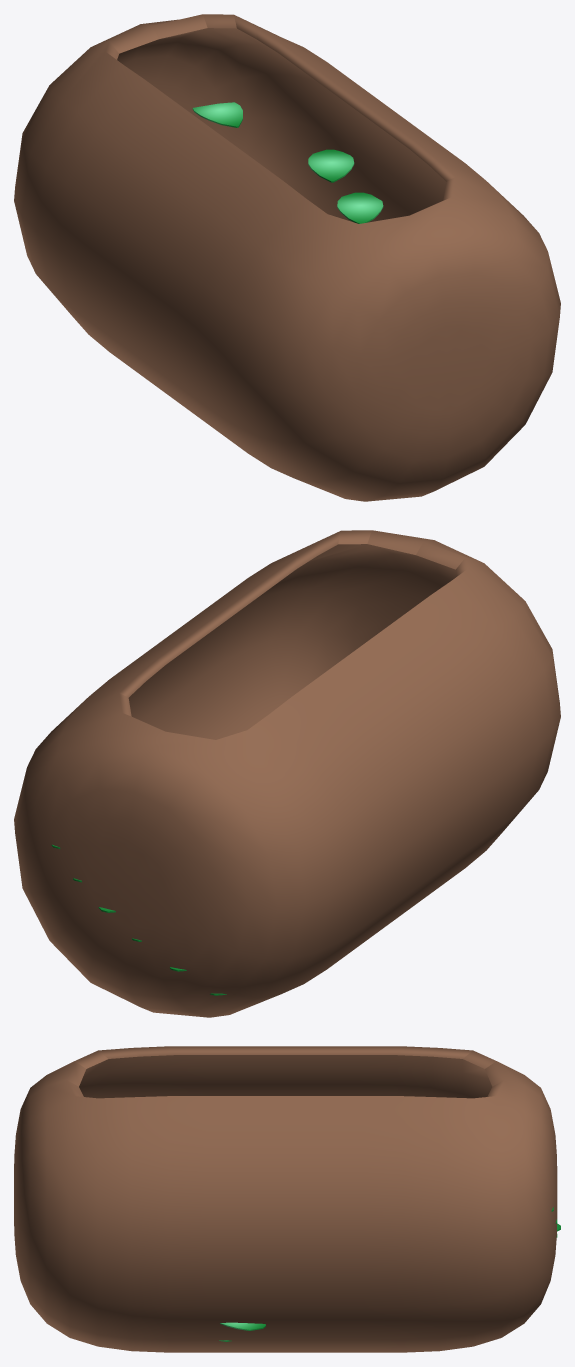
File: TEST_Cylinder_Arena.fbx
The picture shows the model from 3 angles, top to bottom: view 1: azimuth 30°, elevation 25°; view 2: azimuth 150°, elevation 25°; view 3: azimuth 270°, elevation 25°; orthographic projection. The views are drawn at different scales.
Visible parts, largest first — view 1: polySurface1, Leaf_011, Leaf_010, Leaf_016; view 2: polySurface1; view 3: polySurface1.
Part boxes in pixels (x1,y1,x2,y2): polySurface1: [14, 14, 560, 501]; Leaf_011: [308, 149, 354, 182]; Leaf_010: [337, 192, 383, 223]; Leaf_016: [192, 102, 242, 127]; polySurface1: [14, 530, 560, 1017]; polySurface1: [14, 1046, 557, 1352].
Bounding box in the file's own units: 52.77 × 49.29 × 91.93.
Materials: 2 (1 with a texture image).
